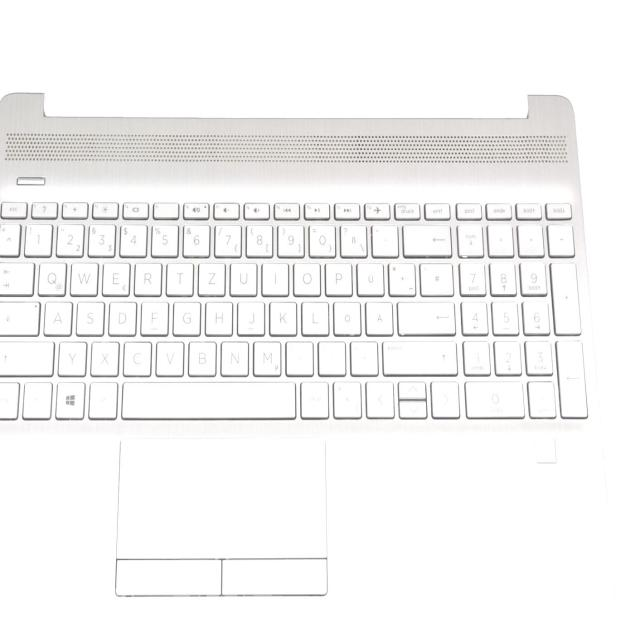0: (306, 222, 334, 256)
1: (23, 220, 51, 255)
2: (54, 221, 83, 255)
3: (86, 221, 115, 255)
4: (118, 221, 146, 255)
5: (149, 222, 177, 255)
6: (181, 222, 208, 256)
7: (213, 222, 240, 256)
8: (243, 221, 271, 256)
9: (275, 222, 303, 256)
a: (42, 298, 71, 334)
accent: (370, 221, 397, 255)
ae: (363, 298, 392, 334)
alt-left: (87, 379, 117, 417)
altgr-right: (298, 378, 328, 417)
b: (186, 338, 216, 375)
c: (121, 338, 151, 375)
caret: (0, 220, 19, 254)
comma: (283, 337, 312, 374)
d: (107, 298, 136, 334)
del: (400, 220, 450, 255)
e: (100, 259, 129, 294)
enter: (395, 298, 454, 333)
f: (139, 298, 167, 333)
g: (170, 298, 200, 334)
h: (203, 298, 232, 334)
hash: (417, 259, 453, 294)
i: (260, 259, 287, 293)
j: (236, 298, 264, 333)
k: (267, 298, 296, 334)
keyboard: (0, 183, 595, 430)
l: (299, 298, 328, 334)
less: (330, 379, 361, 417)
m: (251, 338, 281, 375)
minus: (347, 338, 377, 374)
n: (218, 338, 248, 375)
o: (291, 259, 320, 294)
oe: (331, 298, 360, 334)
p: (323, 259, 351, 294)
plus: (386, 259, 414, 294)
point: (316, 338, 345, 374)
q: (35, 258, 66, 294)
r: (132, 259, 160, 294)
s: (74, 298, 103, 334)
shift-left: (0, 337, 53, 374)
shift-lock: (0, 298, 39, 333)
shift-right: (379, 337, 456, 374)
space: (118, 377, 295, 418)
ss: (338, 221, 366, 255)
strg-left: (0, 379, 19, 417)
t: (164, 258, 192, 294)
tab: (0, 259, 32, 294)
u: (228, 259, 257, 294)
ue: (355, 259, 383, 294)
v: (154, 338, 183, 375)
w: (68, 258, 97, 294)
x: (89, 338, 118, 375)
y: (56, 338, 86, 375)
z: (196, 259, 224, 294)
